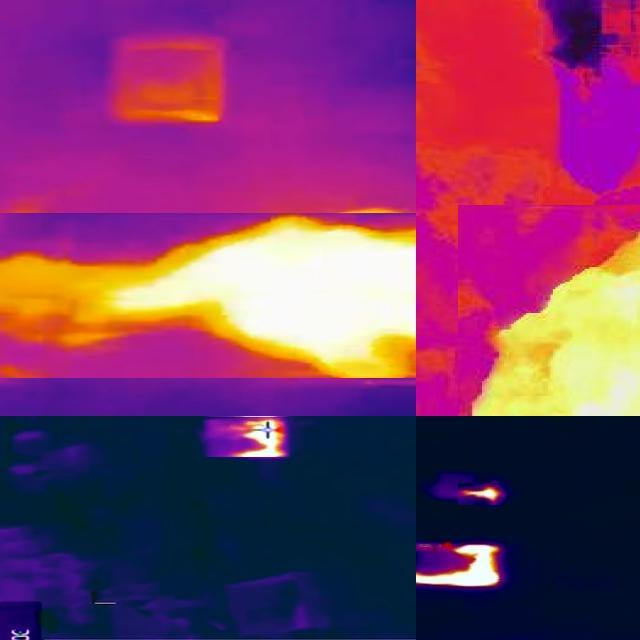fire: (1, 214, 417, 379), (458, 206, 640, 417), (417, 543, 503, 589), (202, 418, 290, 458), (458, 484, 502, 506)
